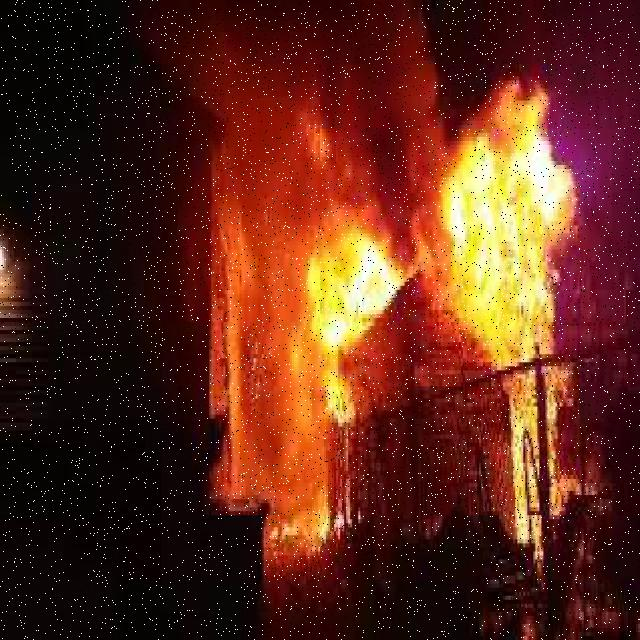fire: (416, 98, 576, 363), (299, 217, 418, 403)
